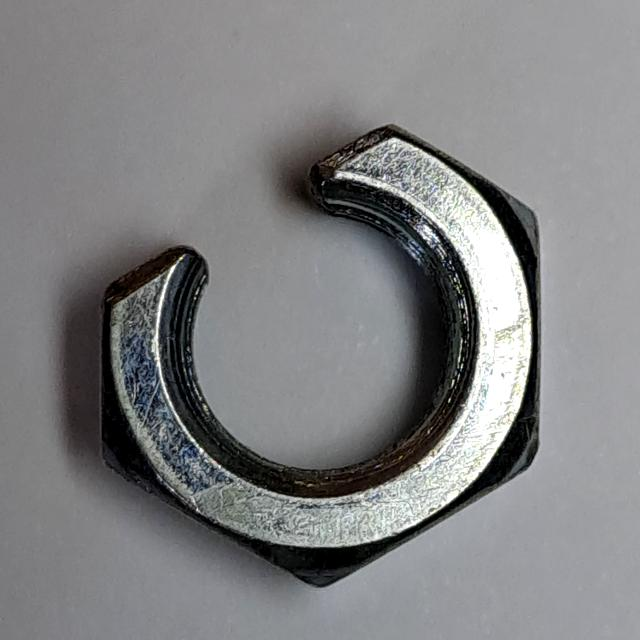Fracture: (87, 109, 558, 603)
